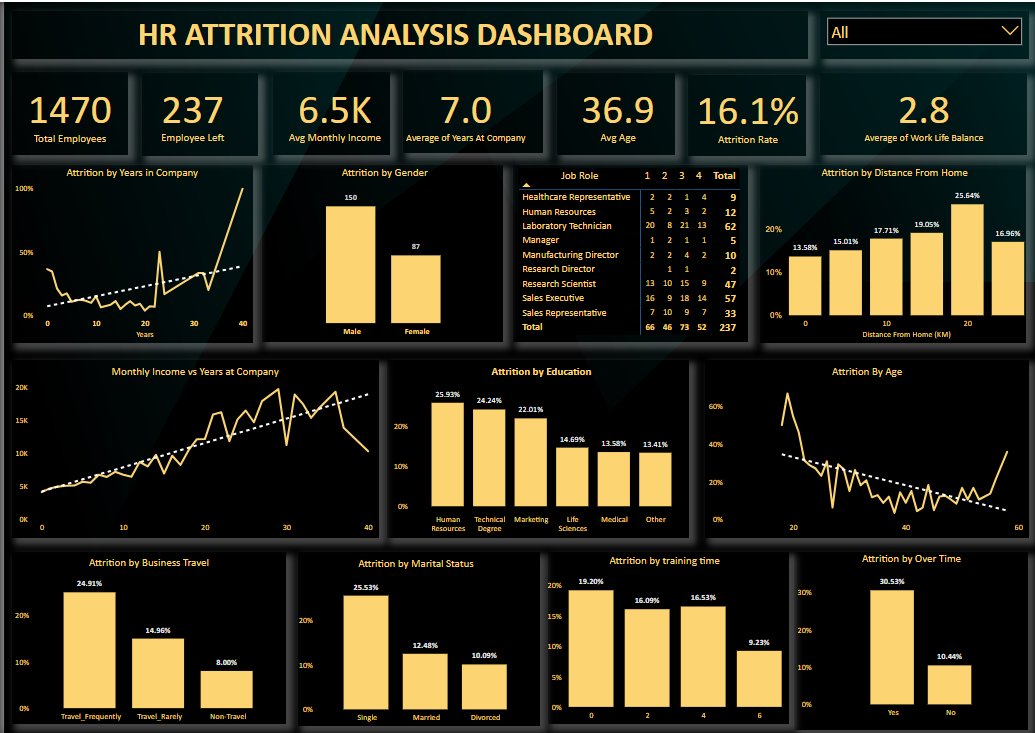

The page's visual inventory and layout, read from the dashboard file:
{"tool":"powerbi","page":{"name":"Page 1","canvas":[1500,1065],"ordinal":0},"visuals":[{"type":"shape","box":[739,236.2,341.8,257.7],"z":0},{"type":"shape","box":[374,236.2,350.7,257.7],"z":1000},{"type":"shape","box":[1098.7,236.2,386.5,259.5],"z":2000},{"type":"card","fields":{"Values":["HR Data.Total Employees"]},"box":[10.7,100.2,170,119.9],"z":3000},{"type":"shape","box":[10.9,798.6,399,250.5],"z":4000},{"type":"card","fields":{"Values":["HR Data.Employee Left"]},"box":[186.9,99.8,174.2,118],"z":5000},{"type":"card","fields":{"Values":["HR Data.Avg Monthly Income"]},"box":[395.5,100.2,170,118.1],"z":6000},{"type":"columnChart","title":"Attrition by Distance From Home","fields":{"Y":["HR Data.Attrition Rate"],"Category":["HR Data.Distance From Home (bins)"]},"box":[1099.9,237.3,386.6,257.7],"z":7000},{"type":"card","fields":{"Values":["HR Data.Avg Age"]},"box":[805.2,100.2,171.8,118.1],"z":8000},{"type":"card","fields":{"Values":["HR Data.Attrition Rate"]},"box":[994.9,100.2,171.8,123.5],"z":9000},{"type":"shape","box":[1185.2,12.7,303.1,70.8],"z":10000},{"type":"card","fields":{"Values":["Avg(HR Data.Years At Company)"]},"box":[573.5,99.8,194.2,118],"z":11000},{"type":"textbox","box":[10.7,12.5,1114.8,71.6],"z":12000},{"type":"shape","box":[10.7,236.2,350.7,259.5],"z":13000},{"type":"shape","box":[789.5,798.6,350,250],"z":13500},{"type":"lineChart","title":"Attrition by Years in Company","fields":{"Y":["HR Data.Attrition Rate"],"Category":["HR Data.Years At Company"]},"box":[10.7,237.3,350.7,257.7],"z":14000},{"type":"columnChart","title":"Attrition by Gender","fields":{"Category":["HR Data.Gender"],"Y":["HR Data.Employee Left"]},"box":[376.8,237.3,350.7,257.7],"z":15000},{"type":"pivotTable","title":"Job Satisfaction by Job Role","fields":{"Rows":["HR Data.Job Role"],"Columns":["HR Data.Job Satisfaction"],"Values":["HR Data.Employee Left"]},"box":[742.8,235.5,341.8,259.5],"z":16000},{"type":"shape","box":[426.5,798.6,351,253],"z":17000},{"type":"shape","box":[10.7,518.9,533.2,259.5],"z":18000},{"type":"shape","box":[555.4,519.1,439.2,259.5],"z":19000},{"type":"shape","box":[1147,798.6,340,258],"z":19500},{"type":"shape","box":[1018.2,519.1,470.1,259.5],"z":20000},{"type":"lineChart","title":"Monthly Income vs Years at Company","fields":{"Category":["HR Data.Years At Company"],"Y":["HR Data.Avg Monthly Income"]},"box":[10.7,526.3,533.2,254.1],"z":21000},{"type":"shape","box":[10.9,12.7,1156.1,70.8],"z":22000},{"type":"columnChart","title":"Attrition by Education","fields":{"Y":["HR Data.Attrition Rate"],"Category":["HR Data.Education Field"]},"box":[561.5,526.3,439.2,254.1],"z":23000},{"type":"lineChart","title":"Attrition By Age","fields":{"Category":["HR Data.Age"],"Y":["HR Data.Attrition Rate"]},"box":[1018.2,526.3,470.1,254.1],"z":24000},{"type":"card","fields":{"Values":["Avg(HR Data.Work Life Balance)"]},"box":[1184.6,100.2,300.6,118.1],"z":25000},{"type":"columnChart","title":"Attrition by Marital Status","fields":{"Category":["HR Data.Marital Status"],"Y":["HR Data.Attrition Rate"]},"box":[422.3,806.1,350.3,250.5],"z":26000},{"type":"columnChart","title":"Attrition by Business Travel","fields":{"Y":["HR Data.Attrition Rate"],"Category":["HR Data.Business Travel"]},"box":[10.9,804.2,399.3,250.5],"z":27000},{"type":"columnChart","title":"Attrition by training time","fields":{"Y":["HR Data.Attrition Rate"],"Category":["HR Data.Training Times Last Year (bins)"]},"box":[784.7,800.5,350.3,252.3],"z":28000},{"type":"columnChart","title":"Attrition by Over Time","fields":{"Y":["HR Data.Attrition Rate"],"Category":["HR Data.Over Time"]},"box":[1147,798.6,341.2,250.5],"z":29000},{"type":"slicer","fields":{"Values":["HR Data.Department"]},"box":[1185.2,12.7,303.1,70.8],"z":30000},{"type":"shape","box":[10.7,101,170,119.9],"z":31000},{"type":"shape","box":[200.2,103.5,170,119.9],"z":32000},{"type":"shape","box":[389.7,102.2,170,119.9],"z":33000},{"type":"shape","box":[579.2,98,203.3,121.6],"z":34000},{"type":"shape","box":[802,104.2,171.8,118.1],"z":35000},{"type":"shape","box":[993.3,104.7,171.8,118.1],"z":36000},{"type":"shape","box":[1184.6,103.7,300.6,118.1],"z":38000}]}

Visuals, with their boxes in screenshot pixels (x1, y1, x2, y2), scaled from the page's 1500x1065 canvas onto the 1035x733 screenshot:
shape: [x1=510, y1=163, x2=746, y2=340]
shape: [x1=258, y1=163, x2=500, y2=340]
shape: [x1=758, y1=163, x2=1025, y2=341]
card - HR Data.Total Employees: [x1=7, y1=69, x2=125, y2=151]
shape: [x1=8, y1=550, x2=283, y2=722]
card - HR Data.Employee Left: [x1=129, y1=69, x2=249, y2=150]
card - HR Data.Avg Monthly Income: [x1=273, y1=69, x2=390, y2=150]
"Attrition by Distance From Home" columnChart: [x1=759, y1=163, x2=1026, y2=341]
card - HR Data.Avg Age: [x1=556, y1=69, x2=674, y2=150]
card - HR Data.Attrition Rate: [x1=686, y1=69, x2=805, y2=154]
shape: [x1=818, y1=9, x2=1027, y2=57]
card - Avg(HR Data.Years At Company): [x1=396, y1=69, x2=530, y2=150]
textbox: [x1=7, y1=9, x2=777, y2=58]
shape: [x1=7, y1=163, x2=249, y2=341]
shape: [x1=545, y1=550, x2=786, y2=722]
"Attrition by Years in Company" lineChart: [x1=7, y1=163, x2=249, y2=341]
"Attrition by Gender" columnChart: [x1=260, y1=163, x2=502, y2=341]
"Job Satisfaction by Job Role" pivotTable: [x1=513, y1=162, x2=748, y2=341]
shape: [x1=294, y1=550, x2=536, y2=724]
shape: [x1=7, y1=357, x2=375, y2=536]
shape: [x1=383, y1=357, x2=686, y2=536]
shape: [x1=791, y1=550, x2=1026, y2=727]
shape: [x1=703, y1=357, x2=1027, y2=536]
"Monthly Income vs Years at Company" lineChart: [x1=7, y1=362, x2=375, y2=537]
shape: [x1=8, y1=9, x2=805, y2=57]
"Attrition by Education" columnChart: [x1=387, y1=362, x2=690, y2=537]
"Attrition By Age" lineChart: [x1=703, y1=362, x2=1027, y2=537]
card - Avg(HR Data.Work Life Balance): [x1=817, y1=69, x2=1025, y2=150]
"Attrition by Marital Status" columnChart: [x1=291, y1=555, x2=533, y2=727]
"Attrition by Business Travel" columnChart: [x1=8, y1=554, x2=283, y2=726]
"Attrition by training time" columnChart: [x1=541, y1=551, x2=783, y2=725]
"Attrition by Over Time" columnChart: [x1=791, y1=550, x2=1027, y2=722]
slicer - HR Data.Department: [x1=818, y1=9, x2=1027, y2=57]
shape: [x1=7, y1=70, x2=125, y2=152]
shape: [x1=138, y1=71, x2=255, y2=154]
shape: [x1=269, y1=70, x2=386, y2=153]
shape: [x1=400, y1=67, x2=540, y2=151]
shape: [x1=553, y1=72, x2=672, y2=153]
shape: [x1=685, y1=72, x2=804, y2=153]
shape: [x1=817, y1=71, x2=1025, y2=153]
